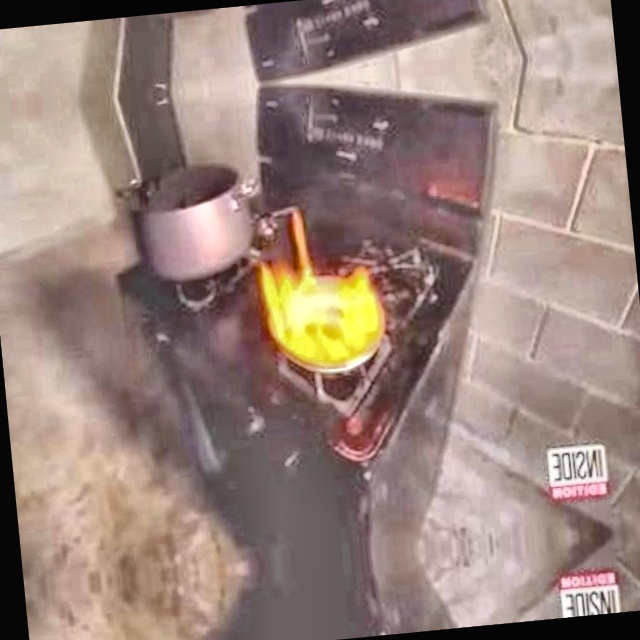fire: (230, 217, 399, 404)
